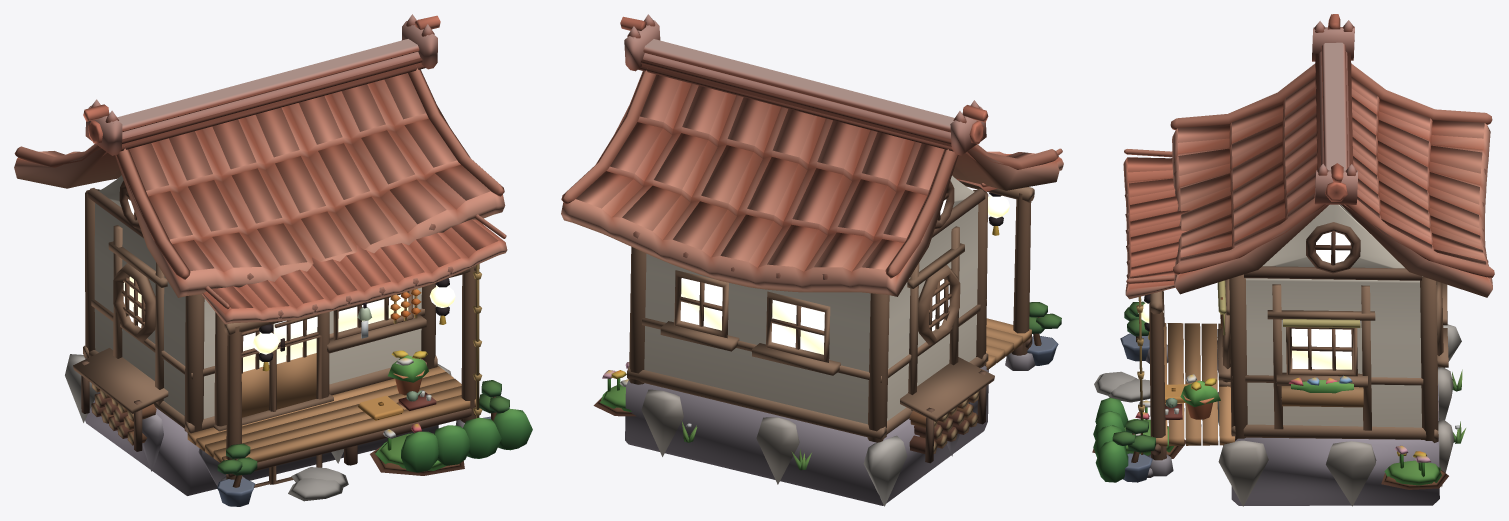
File: home-2-v2.glb
3 views of the same model, side by side, from view 1: azimuth 30°, elevation 25°; view 2: azimuth 150°, elevation 25°; view 3: azimuth 270°, elevation 25° (orthographic). The views are drawn at different scales.
Visible parts, largest first — view 1: home, window_glow; view 2: home, window_glow; view 3: home, window_glow.
Boxes of the visible parts, x1=… form: home: x1=14, y1=14, x2=532, y2=506; window_glow: x1=123, y1=199, x2=455, y2=371; home: x1=561, y1=14, x2=1063, y2=506; window_glow: x1=680, y1=195, x2=1009, y2=354; home: x1=1092, y1=14, x2=1494, y2=506; window_glow: x1=1138, y1=232, x2=1351, y2=369.
Size of the model in its own units: 3.38 by 3.42 by 3.44.
